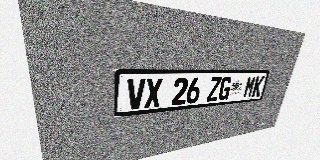2: (172, 78, 189, 105)
6: (185, 77, 202, 104)
G: (217, 77, 232, 101)
K: (251, 76, 265, 97)
M: (242, 76, 256, 98)
V: (127, 79, 146, 110)
X: (144, 78, 163, 108)
Z: (206, 77, 222, 102)
